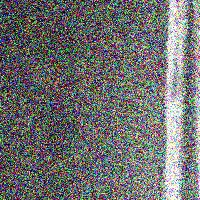scratches: (161, 1, 199, 199)
